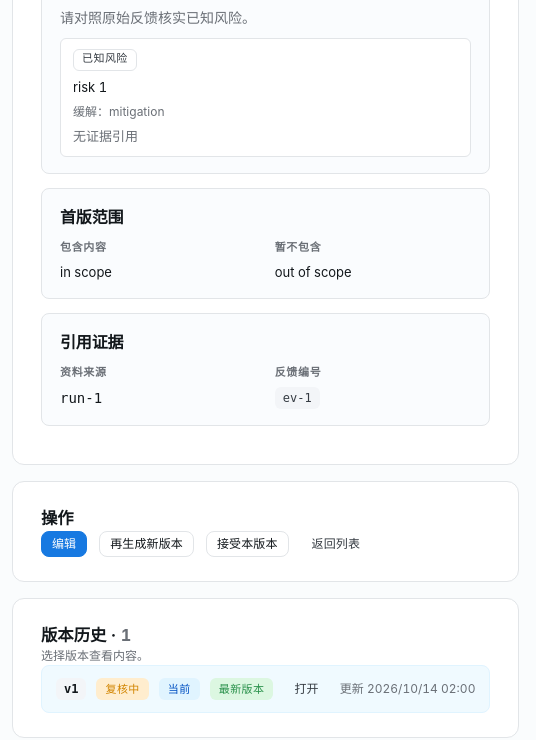
Test: PrdDetailPage — Phase 7 C2 › Accept POSTs /prds/{id}/accept with {} body and disables Accept but leaves Regenerate open
The width and height of the screenshot is (536, 740).
(page scrolled)
Click the button with test id "accept-prd": (247, 544) [206,530,289,556]
(page scrolled)
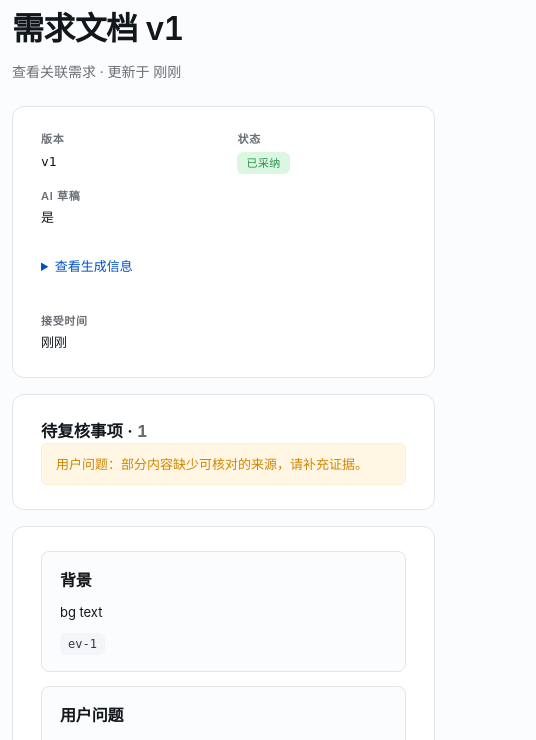
Expected: the text with test id "prd-status-badge" reads "已采纳", [246,156,281,170]
